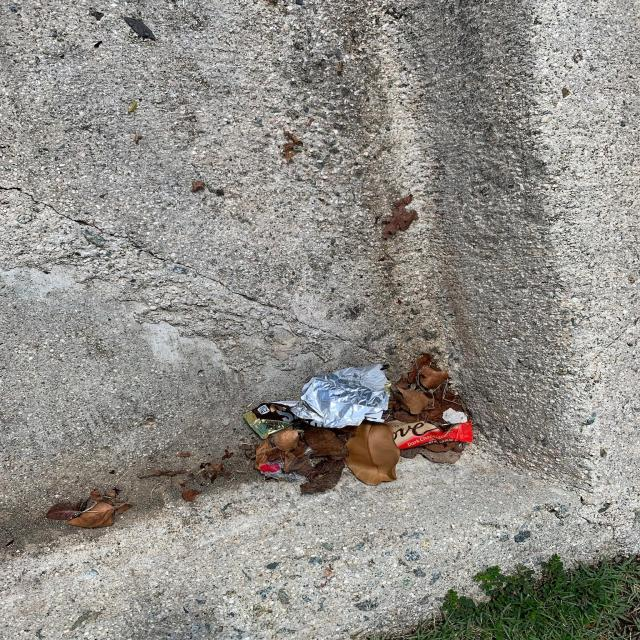litter: (244, 365, 391, 437), (398, 411, 474, 450)
